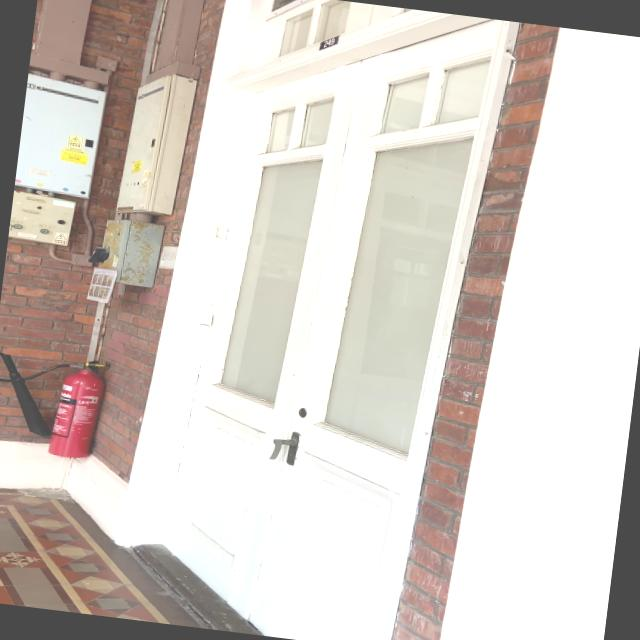room249: (316, 32, 342, 52)
